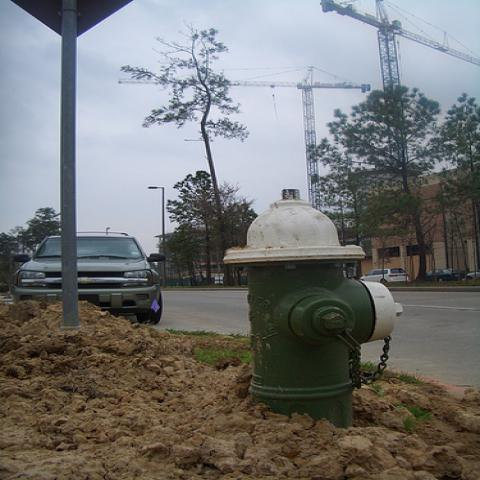car: (10, 231, 167, 324), (360, 268, 409, 282), (424, 270, 458, 281)
